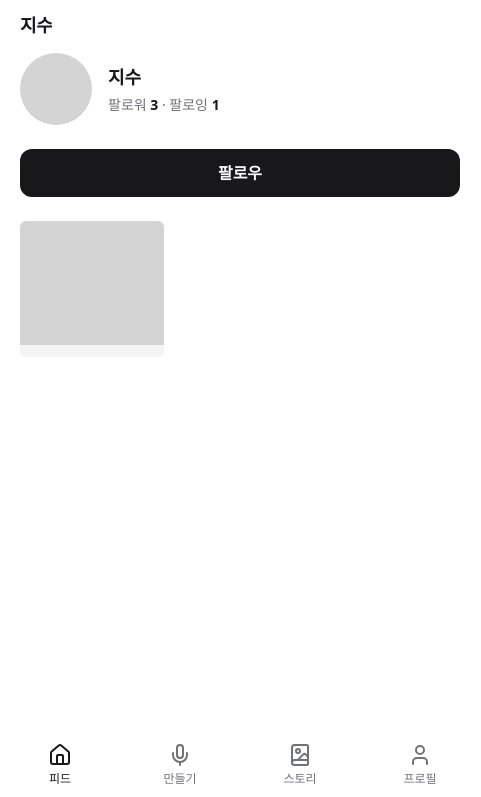
Test: 사용자 페이지 /@닉네임 (FR-023) › 남의 페이지에서 팔로우하고 취소한다
Click the button "팔로우" at (240, 173), box [20, 149, 460, 197]
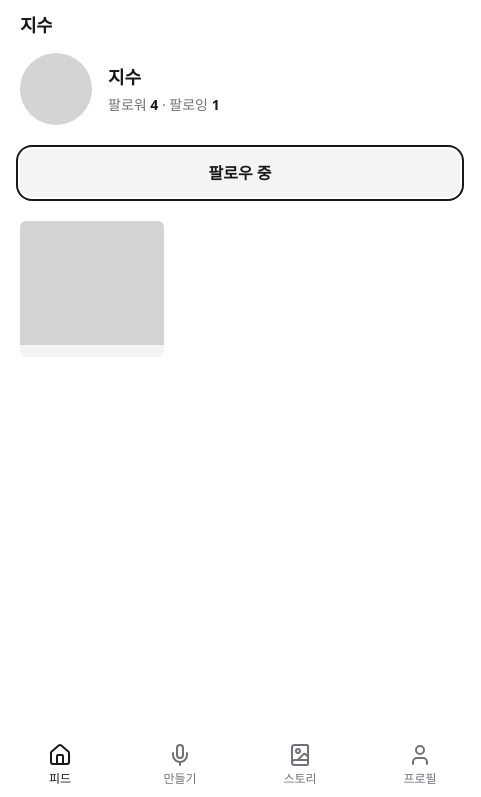
Check: the button "팔로우 중" is shown
Check: the text "4" is shown, box [150, 95, 158, 114]
Click the button "팔로우 중" at (240, 173), box [20, 149, 460, 197]
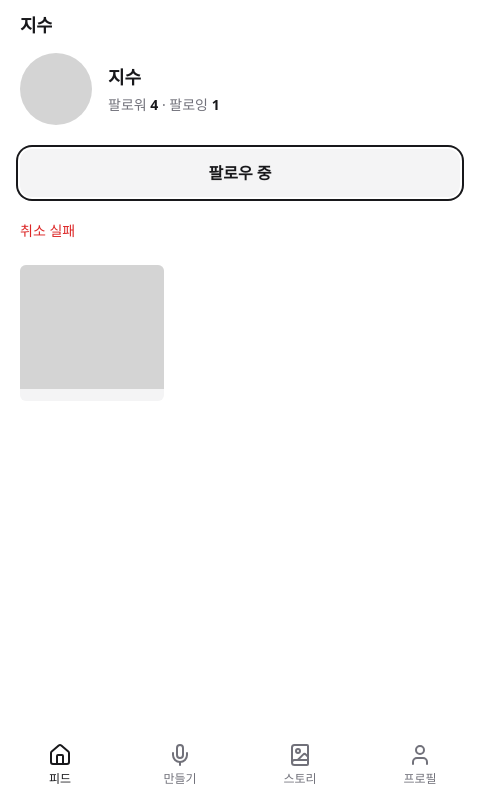
Check: the text "취소 실패" is shown, box [20, 221, 75, 240]
